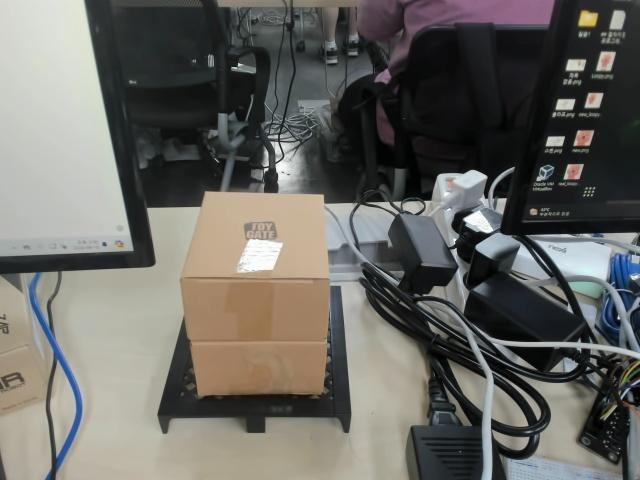box: (153, 190, 355, 437)
